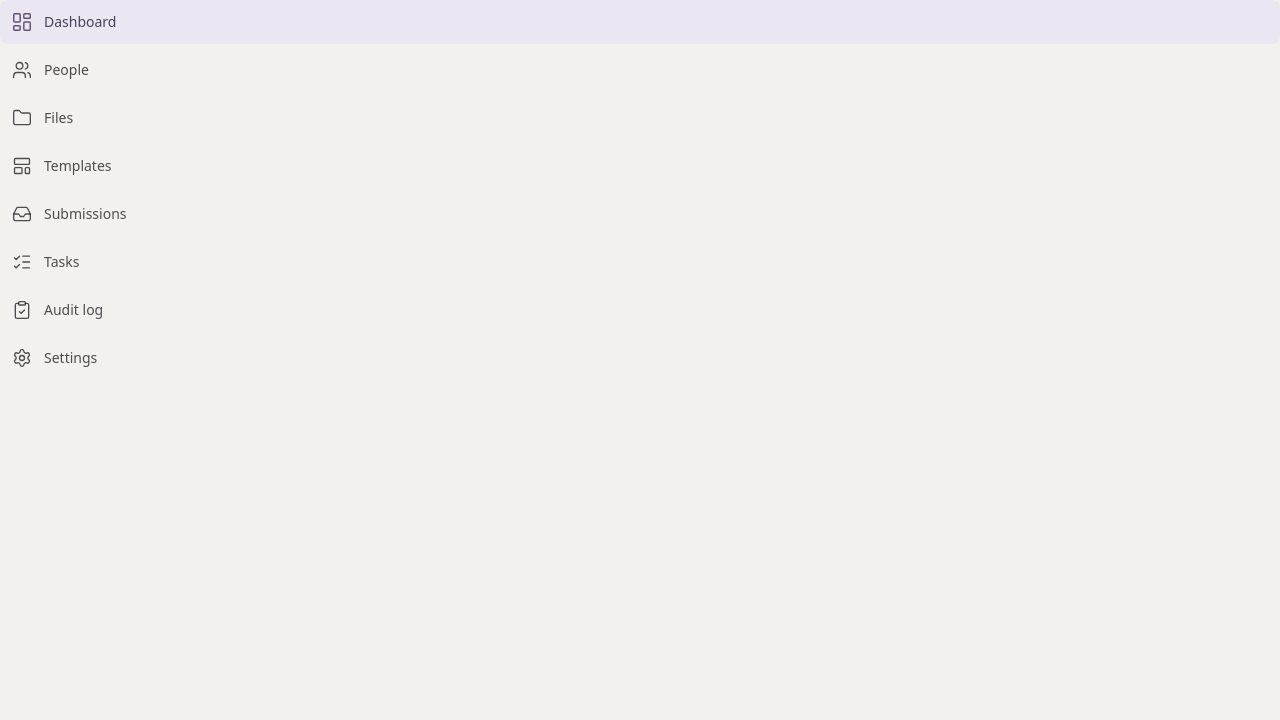
Scenario: sidebar customization interactions › keeps the name and dialog intact when the server rejects a rename
This screenshot has width=1280, height=720.
Right-click the link to "/documents" at (43, 118), box [12, 108, 73, 128]
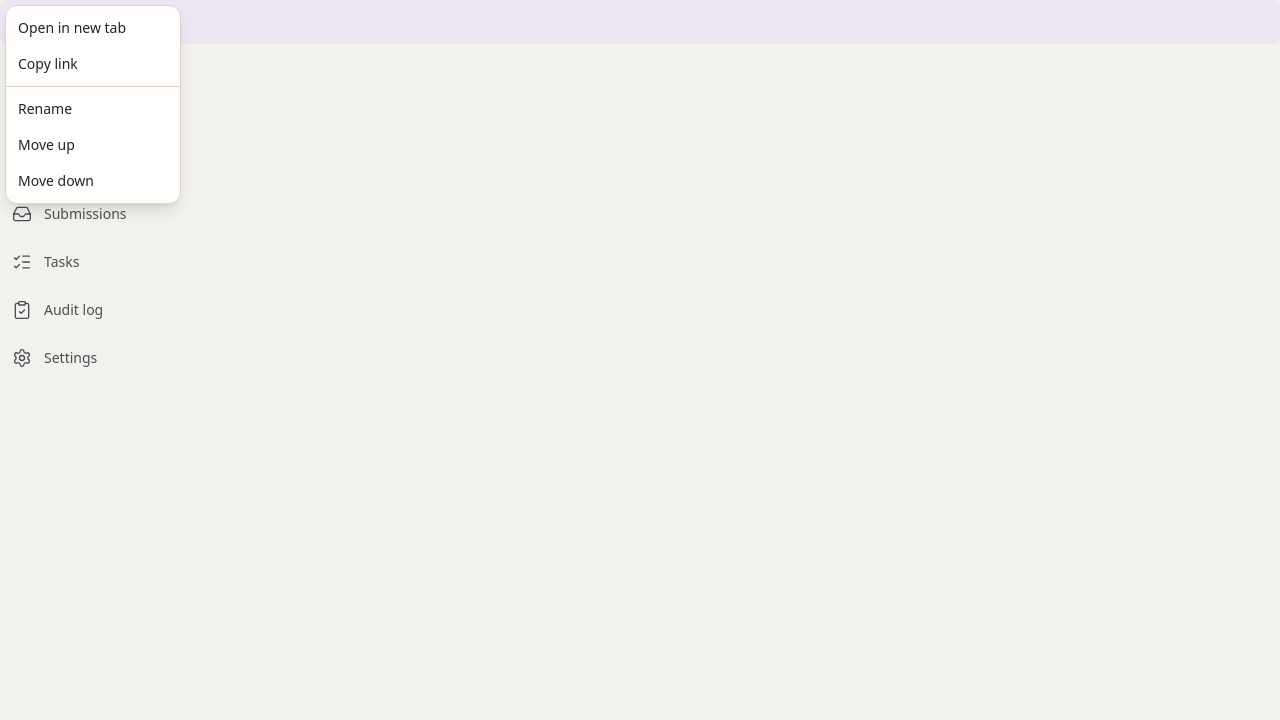
Now the menu item "Rename" is shown
Click the menu item "Rename". click: (45, 108)
box: [18, 99, 72, 118]
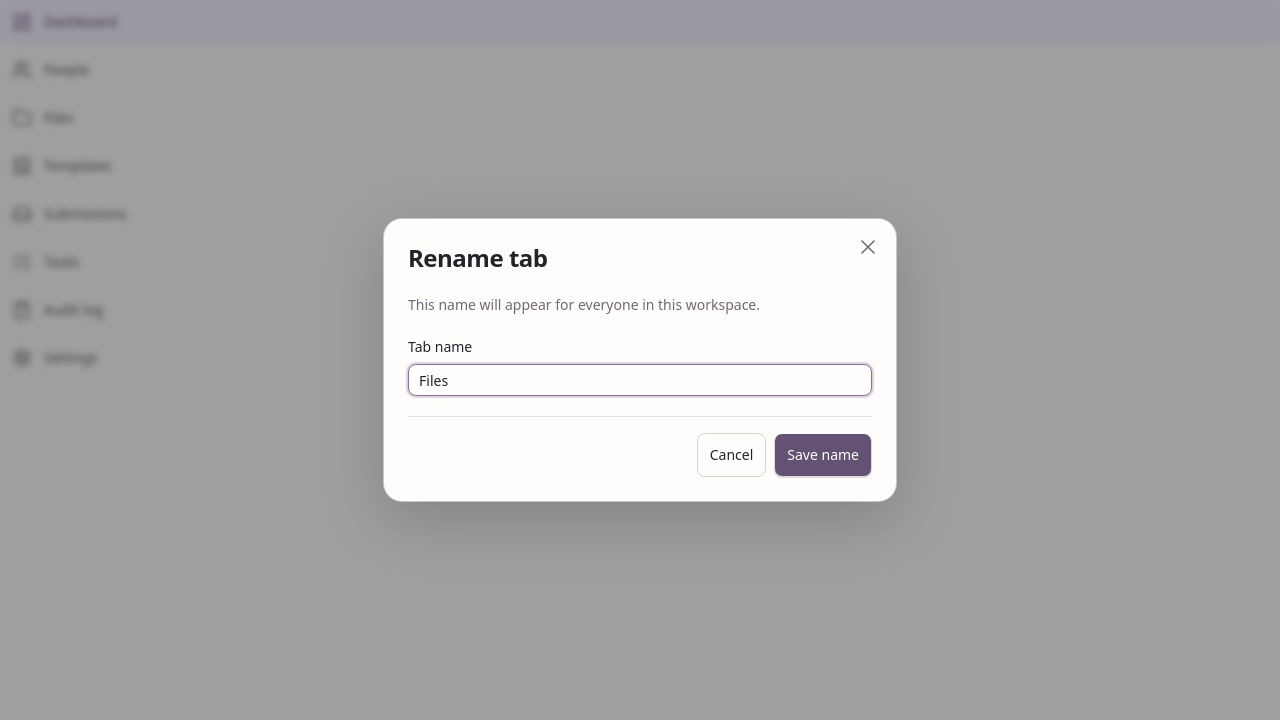
Submit the form, box [408, 337, 872, 477]
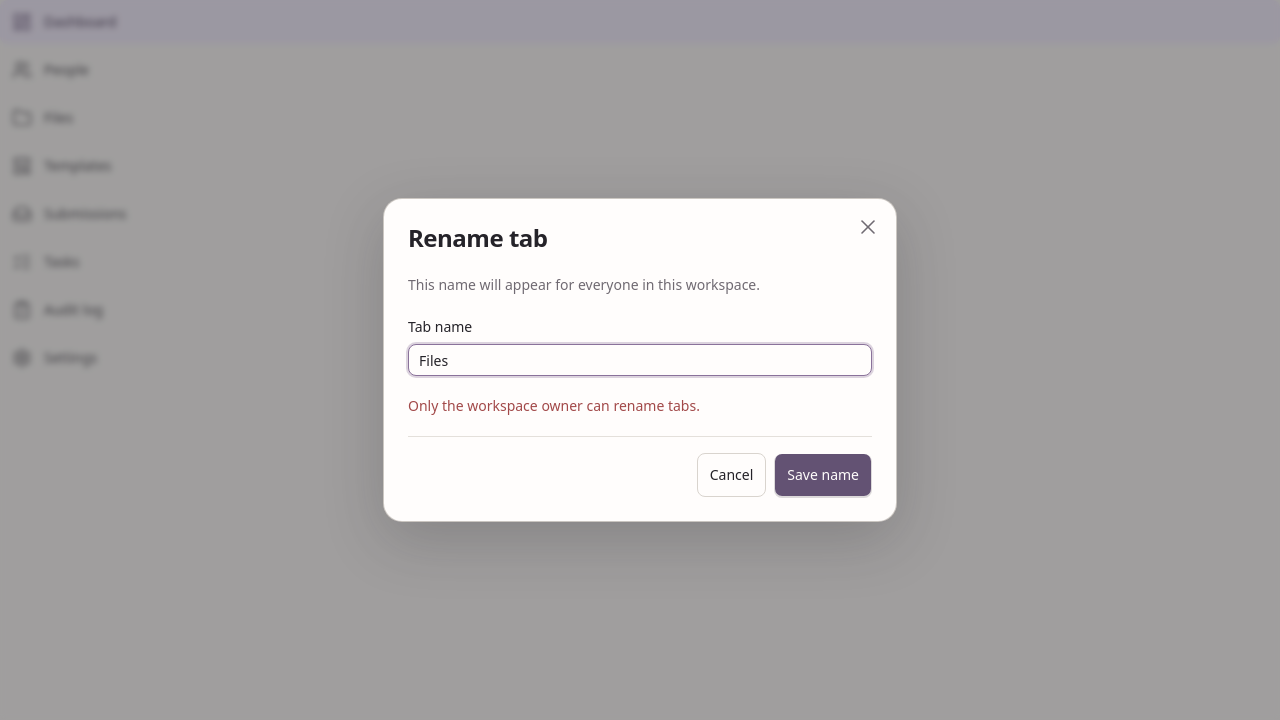
Expected: the link to "/documents" reads "Files", [12, 108, 73, 128]
Now the message "Only the workspace owner can rename tabs." is shown, box [408, 396, 700, 415]
